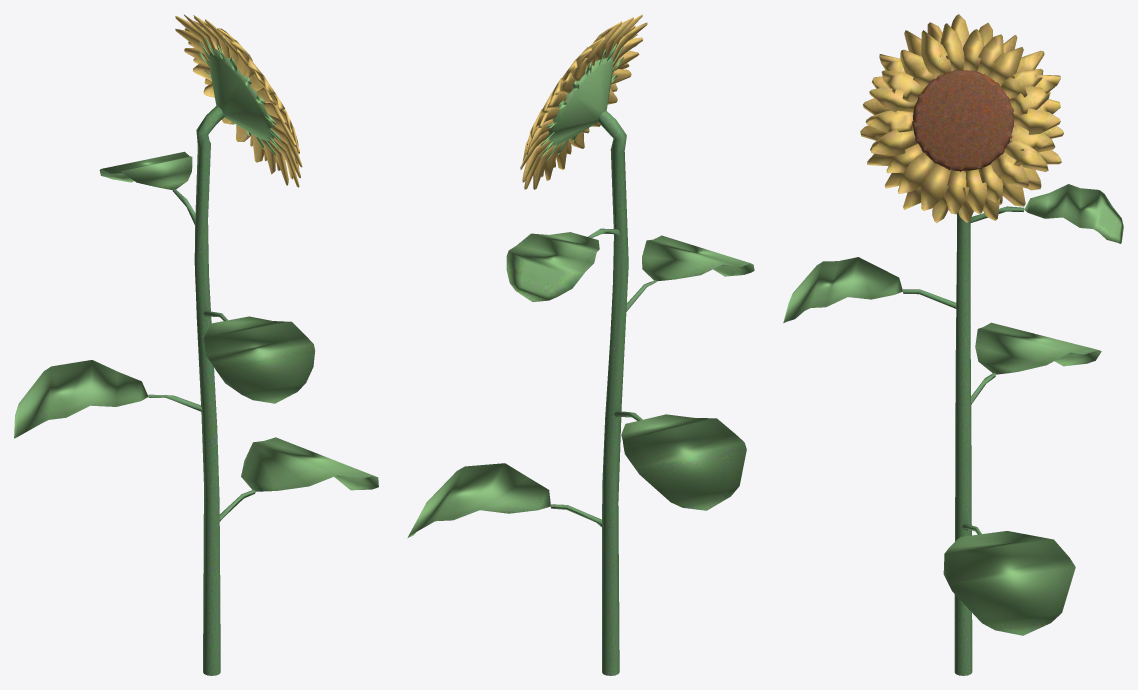
The model's file is sunflower.glb.
3 views of the same model, side by side, from view 1: azimuth 30°, elevation 25°; view 2: azimuth 150°, elevation 25°; view 3: azimuth 270°, elevation 25° (orthographic).
Parts seen in each view (by area): view 1: sunflower_body; view 2: sunflower_body; view 3: sunflower_body.
Part boxes in pixels (x1,y1,x2,y2): sunflower_body: (14,14,378,675); sunflower_body: (407,14,754,675); sunflower_body: (783,14,1123,675).
Size of the model in its own units: 0.962 by 1.78 by 0.842.
Materials: 1 (1 with a texture image).
